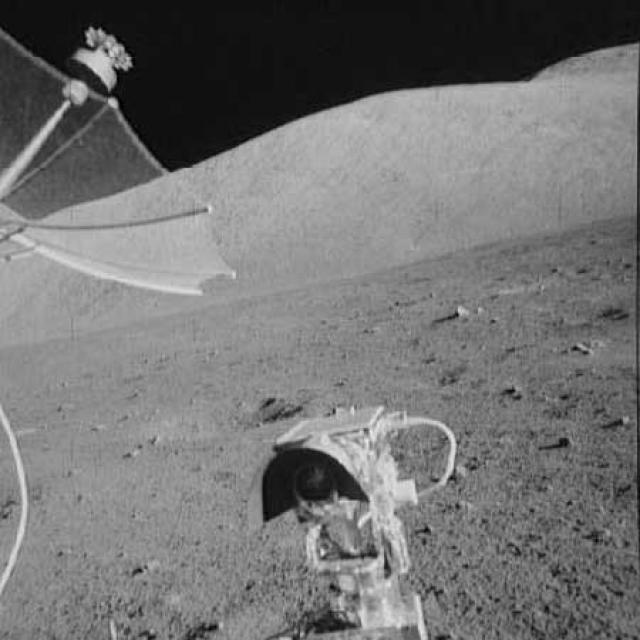artifact: (0, 30, 248, 313), (260, 407, 481, 639), (2, 402, 36, 596)
crater: (158, 394, 306, 426)
rock: (450, 299, 470, 320)
